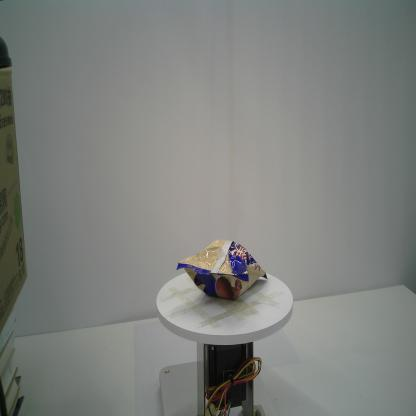Dessert: (176, 238, 268, 302)
